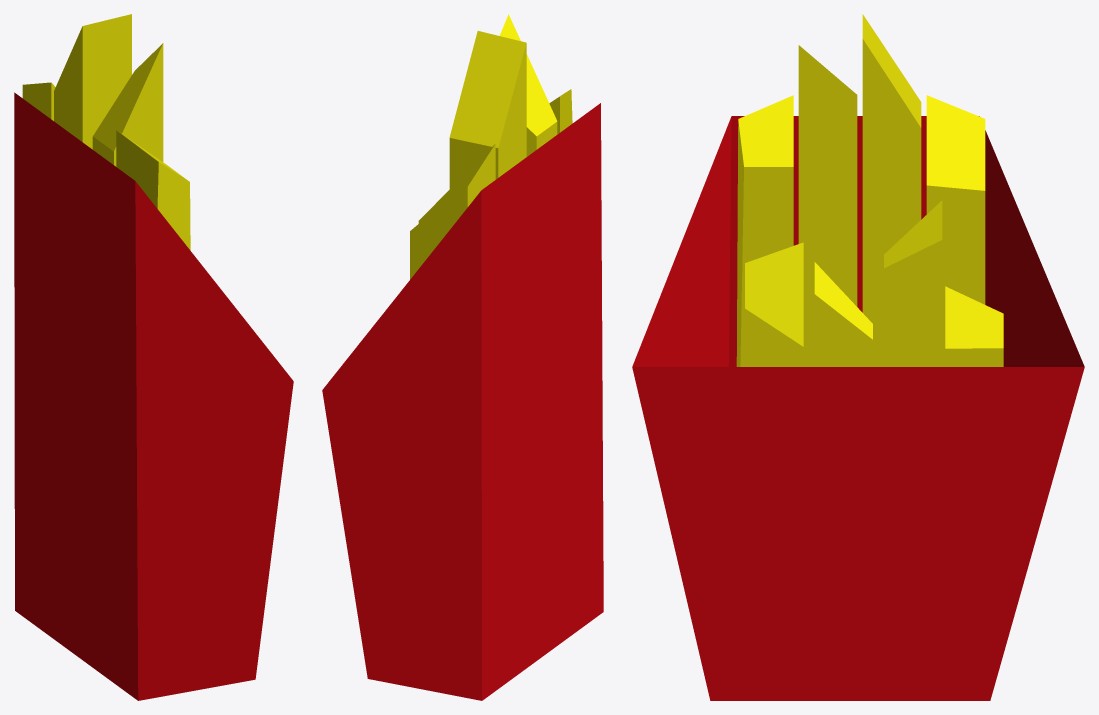
Rendered from Fries.fbx.
3 renders of one model, left to right at view 1: azimuth 30°, elevation 25°; view 2: azimuth 150°, elevation 25°; view 3: azimuth 270°, elevation 25°, orthographic. The views are drawn at different scales.
Visible parts, largest first — view 1: Fries; view 2: Fries; view 3: Fries.
Boxes of the visible parts, x1,y1,x2,y2 form: Fries: (14, 14, 293, 700); Fries: (322, 14, 603, 700); Fries: (632, 14, 1084, 700).
Bounding box in the file's own units: 44.39 × 241 × 155.
